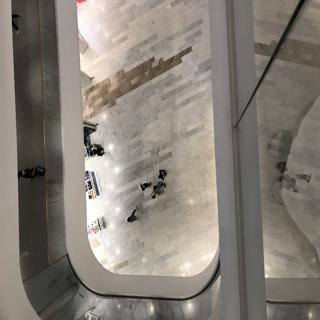person: (118, 206, 147, 229), (151, 184, 169, 206), (151, 164, 171, 183)
